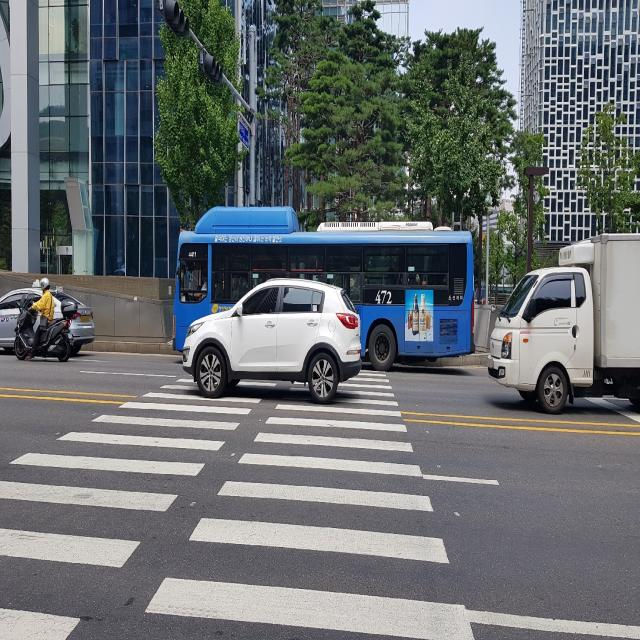횡단보도: (0, 367, 482, 639)
